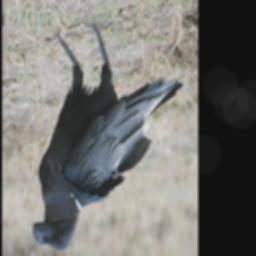Crow: (29, 21, 183, 251)
